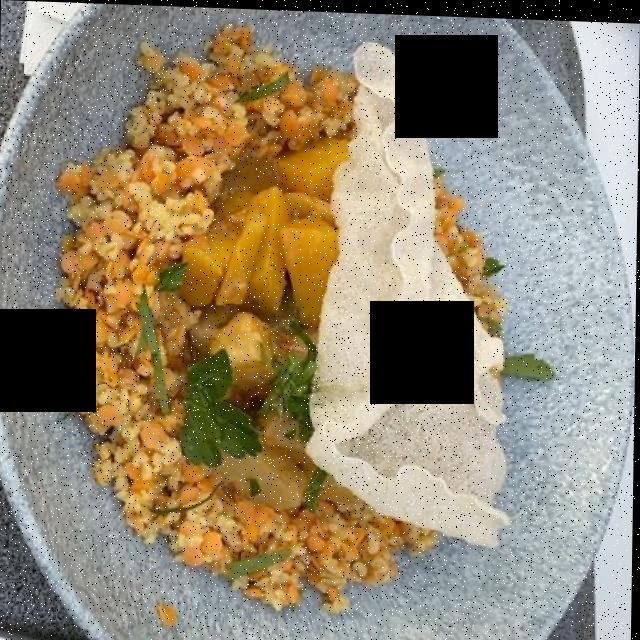curry-vegetarian: (146, 110, 361, 518)
